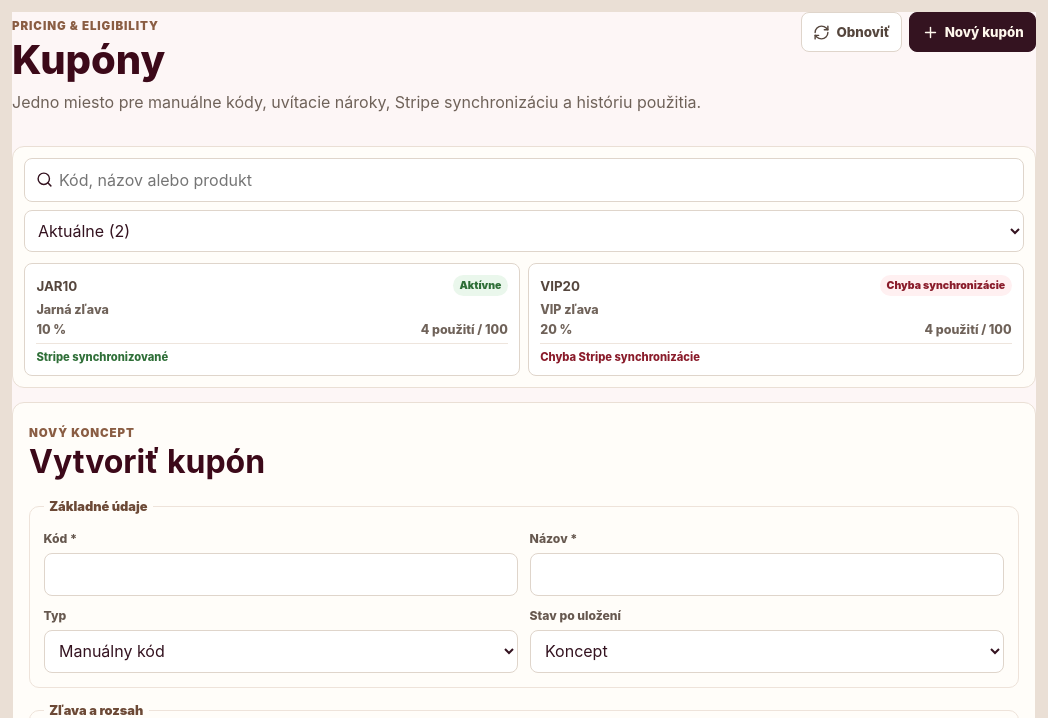
AdminCouponsSection › shows sync failure detail and exposes retry as recovery action
Click the button "VIP20". click: (560, 286)
box: [528, 263, 1024, 376]
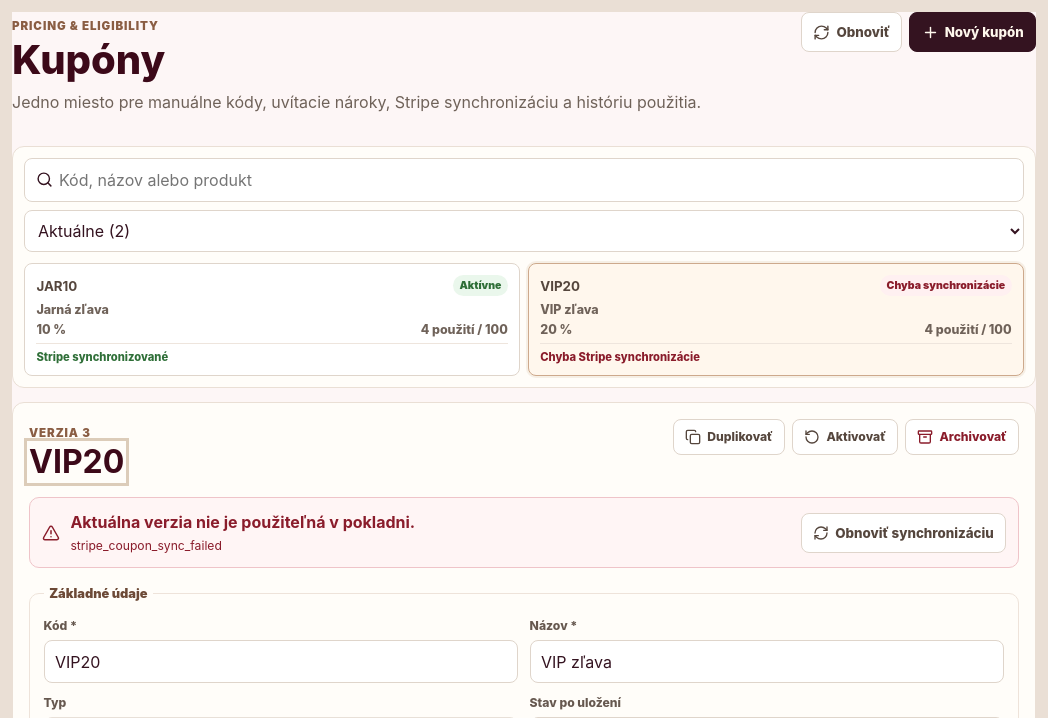
Now the message shows "Aktuálna verzia nie je použiteľná", box [70, 512, 415, 532]
Click the button "Obnoviť synchronizáciu". click: (903, 533)
box: [801, 513, 1006, 553]
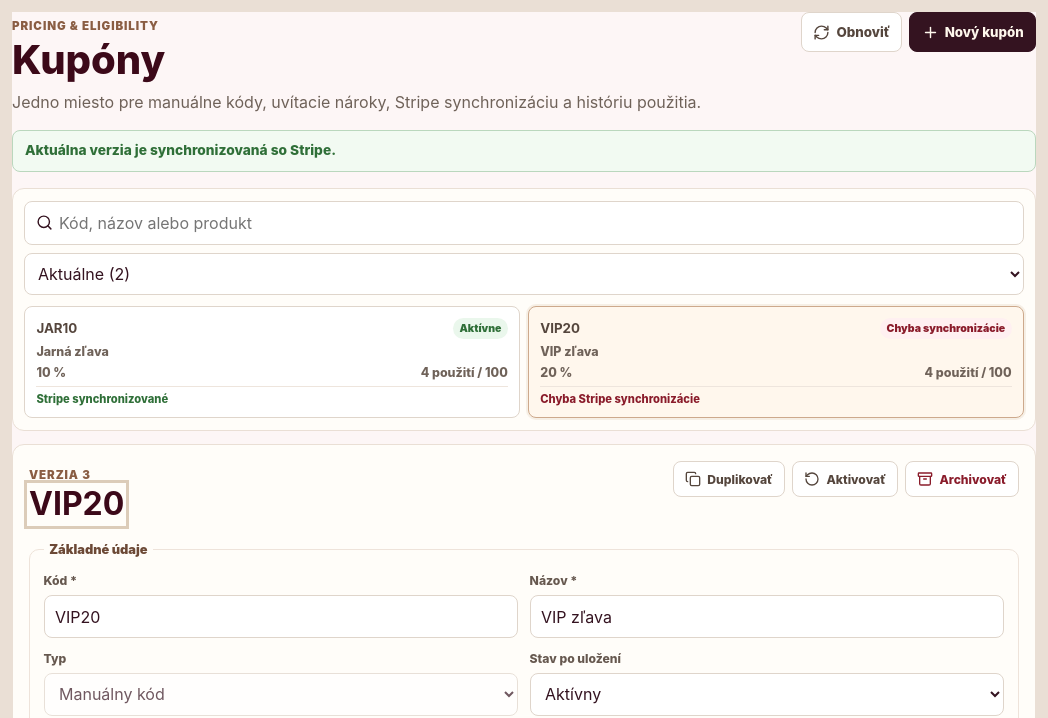
Now the text "Aktuálna verzia je synchronizovaná so Stripe." is shown, box [12, 130, 1036, 172]
